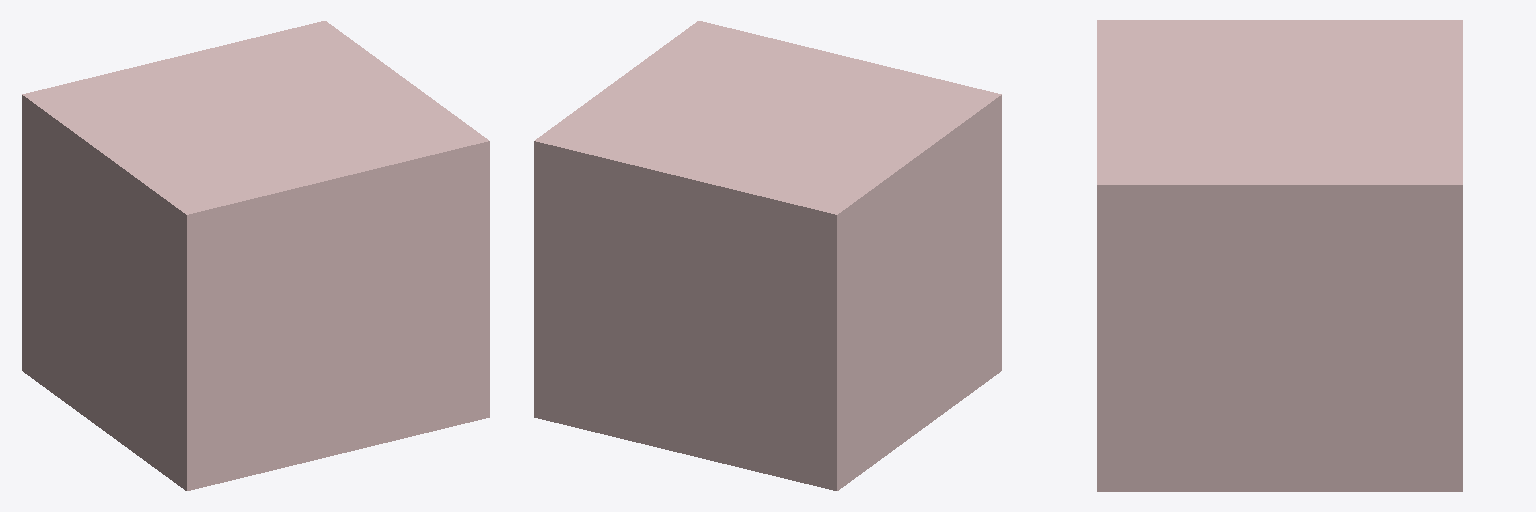
URDF robot description (box.urdf):
<?xml version="1.0" ?>
<robot name="box.urdf">
  <link name="baseLink">
    <contact>
      <lateral_friction value="1.0"/>
      <rolling_friction value="0.0001"/>
      <inertia_scaling value="3.0"/>
    </contact>
    <inertial>
      <origin rpy="0 0 0" xyz="0 0 0"/>
       <mass value="0.1"/>
       <inertia ixx="1" ixy="0" ixz="0" iyy="1" iyz="0" izz="1"/>
    </inertial>
    <visual>
      <origin rpy="0 0 0" xyz="0 0 0"/>
      <geometry>
        <!-- <box size="0.33399999999999996 0.314 0.29100000000000004"/> -->
        <mesh filename="box/box.obj" scale="0.33399999999999996 0.314 0.29100000000000004"/>
      </geometry>
      <material name="white">
        <color rgba="0.9 0.8 0.8 1"/>
      </material>
    </visual>
    <collision>
      <origin rpy="0 0 0" xyz="0 0 0"/>
      <geometry>
        <mesh filename="box/box.obj" scale="0.33399999999999996 0.314 0.29100000000000004"/>
	 	    <!-- <box size="0.33399999999999996 0.314 0.29100000000000004"/> -->
      </geometry>
    </collision>
  </link>
</robot>

--- Facts derived from the render (not from the file) ---
Views: 3 orthographic renders of the robot side by side, from view 1: azimuth 30°, elevation 25°; view 2: azimuth 150°, elevation 25°; view 3: azimuth 270°, elevation 25°.
Model box.urdf with 1 links and 0 joints (none), rooted at baseLink, posed every joint at zero.
Links seen in each view (by area): view 1: baseLink; view 2: baseLink; view 3: baseLink.
Boxes of the visible links, x1,y1,x2,y2 form: baseLink: [22, 21, 489, 490]; baseLink: [534, 21, 1001, 490]; baseLink: [1097, 20, 1462, 491].
Size in the robot's own frame: 0.334 by 0.314 by 0.291 metres.
1 mesh visuals loaded from 1 distinct referenced files (1 OBJ).
